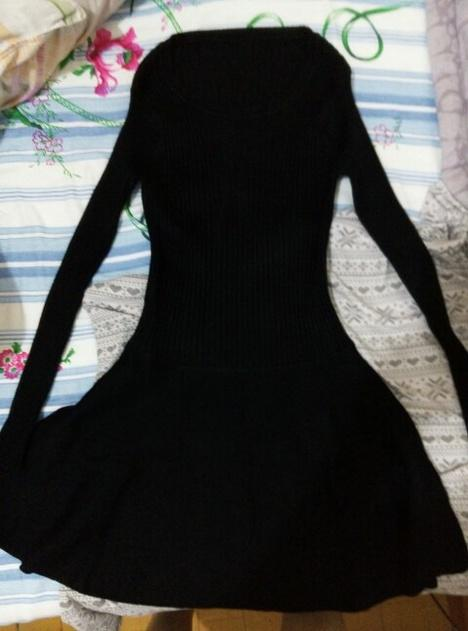S_dress: (2, 16, 467, 617)
